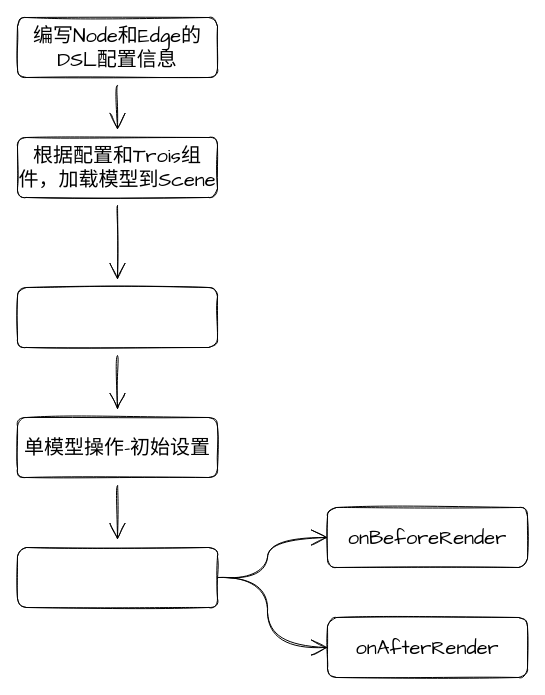
Image size: 545x695. Some labels were removed from this diagram. The box of each missing label's shape, as (x1, y1, x2, y2) in pixels:
单模型操作-渲染循环设置: (16, 546, 218, 608)
触发每个模型的load事件: (16, 286, 218, 348)
